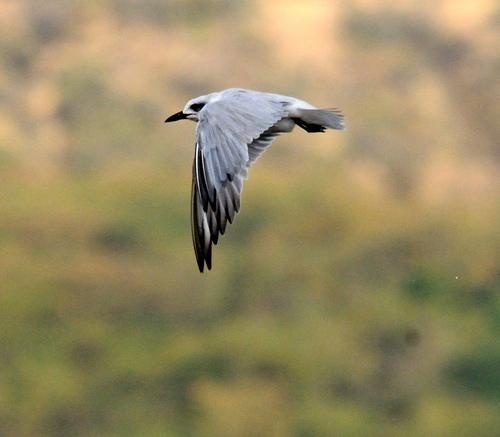bird: (160, 87, 345, 272)
